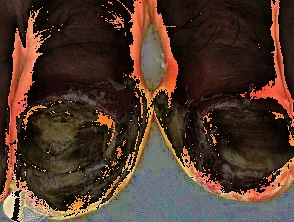Nail_psoriasis: (0, 59, 157, 222), (150, 66, 294, 205)
